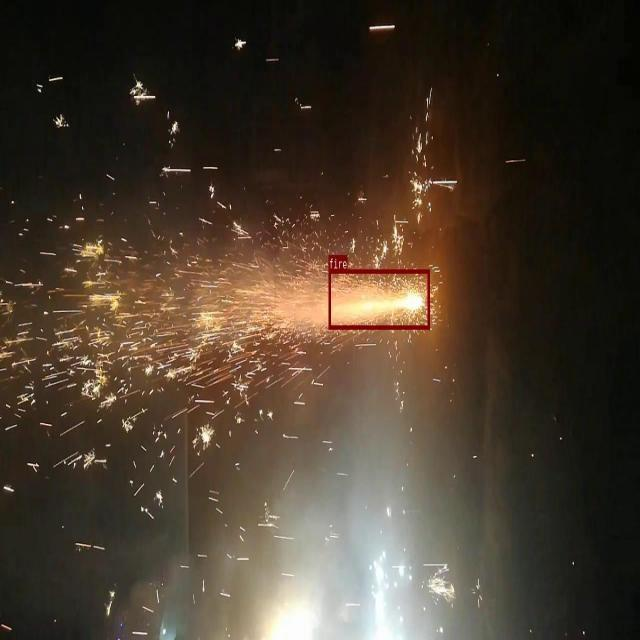fire: (328, 269, 429, 329)
